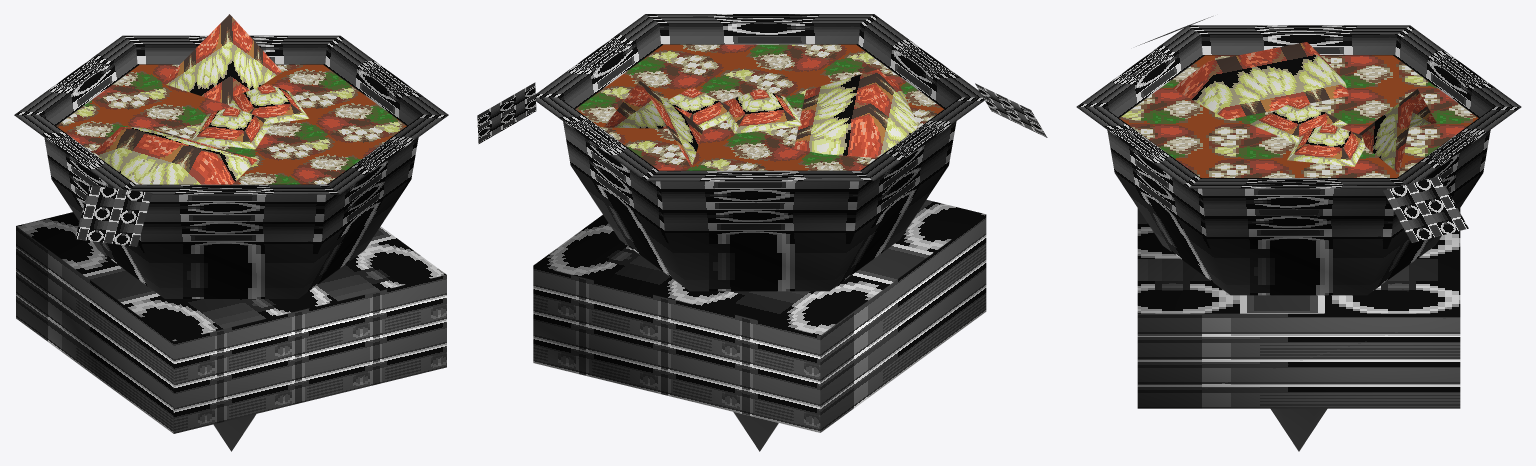
The model's file is 3388imig18_10.gltf.
The picture shows the model from 3 angles, left to right: view 1: azimuth 30°, elevation 25°; view 2: azimuth 150°, elevation 25°; view 3: azimuth 270°, elevation 25°; orthographic projection. The views are drawn at different scales.
Visible parts, largest first — view 1: 3388imig18_10; view 2: 3388imig18_10; view 3: 3388imig18_10.
Part boxes in pixels (x1,y1,x2,y2): 3388imig18_10: [14, 14, 448, 451]; 3388imig18_10: [477, 14, 1047, 451]; 3388imig18_10: [1076, 16, 1521, 451].
Bounding box in the file's own units: 0.9041 × 0.7695 × 0.7944.
Materials: 4 (4 with a texture image).
